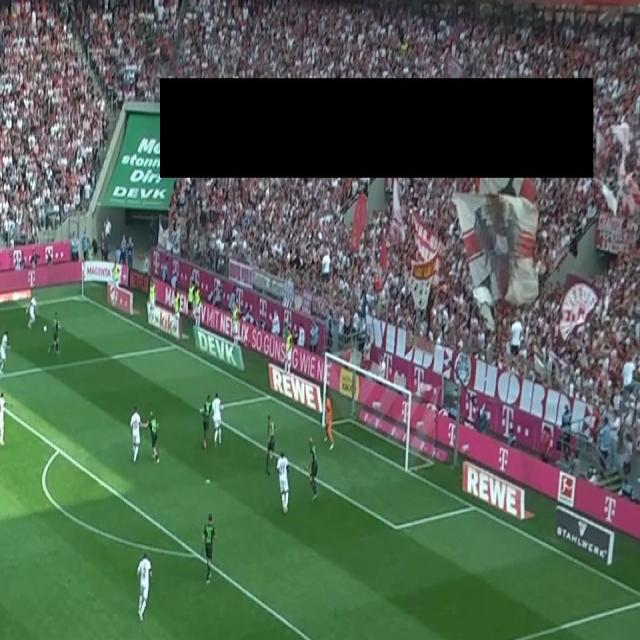ball: (42, 323, 48, 332)
